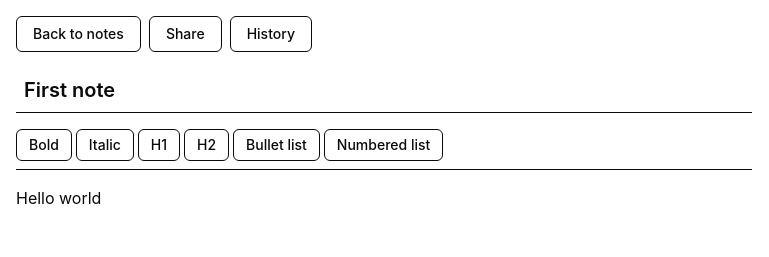
Test: NoteEditorPage › Clearing the title blocks autosave
Clear the field showing "First note" at (384, 90), box [16, 68, 752, 113]
Wait 2500 ms
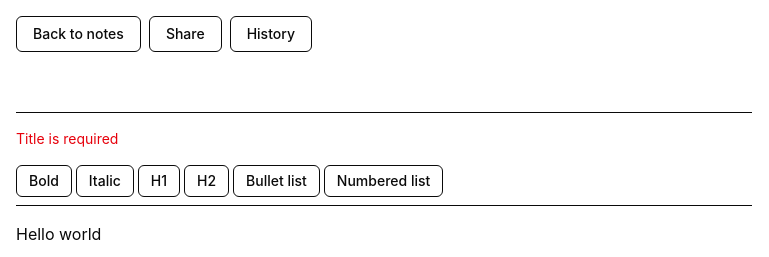
Now the text "Title is required" is shown, box [16, 130, 118, 147]
